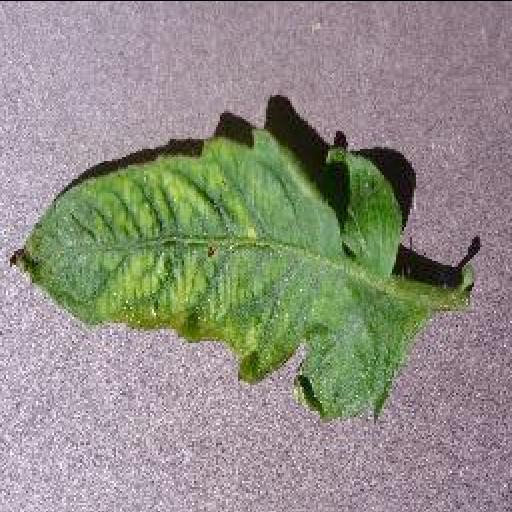Mosaic Virus: (8, 124, 432, 426)
